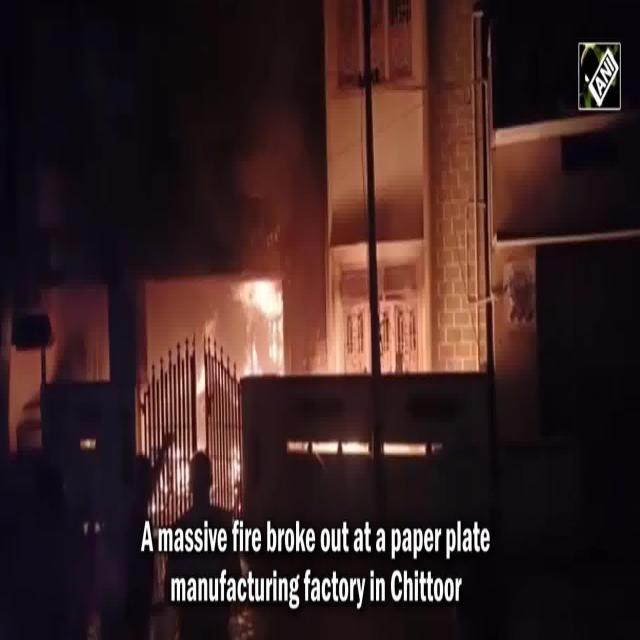fire: (244, 276, 285, 338)
